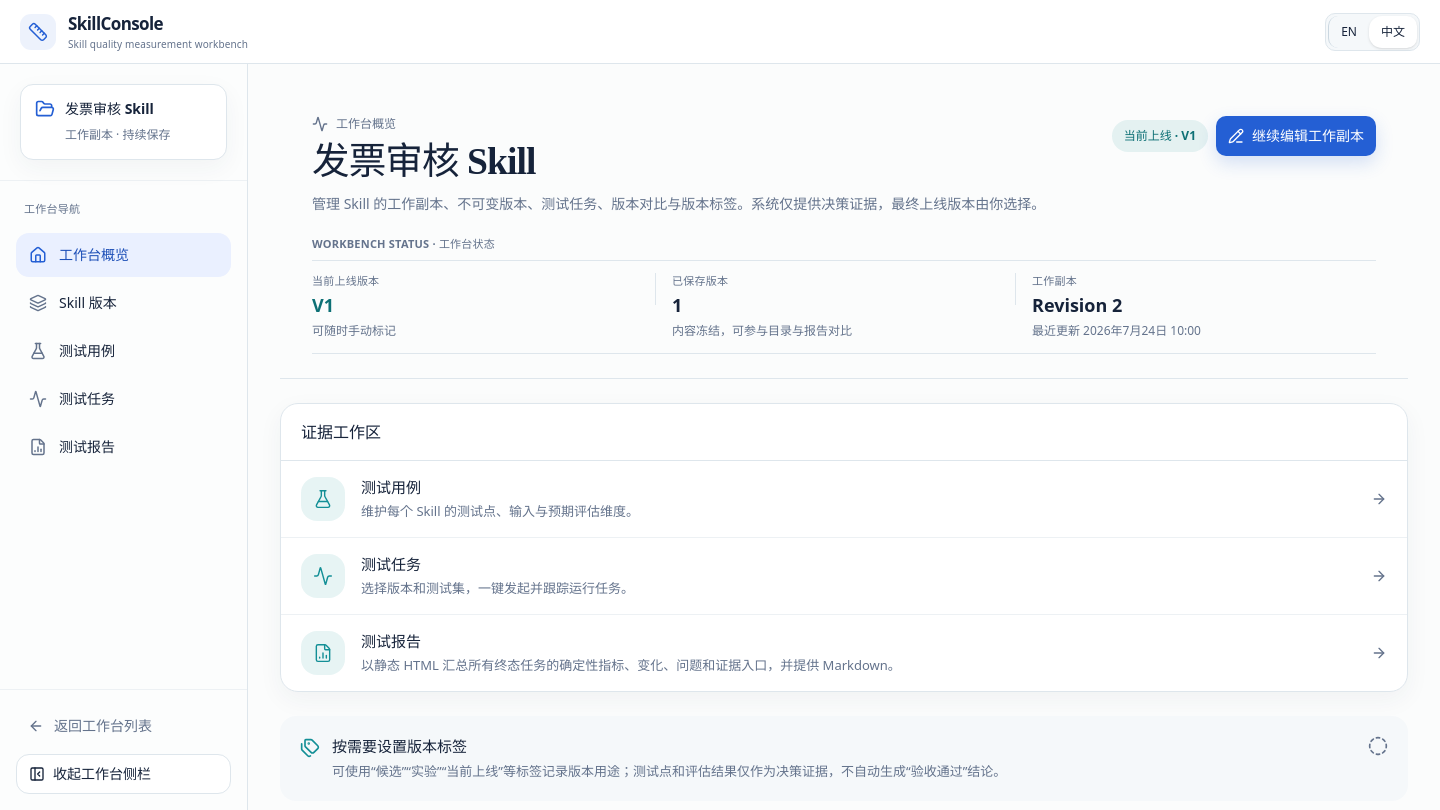
Test: workspace routes › persists the collapsed sidebar and keeps accessible navigation
This screenshot has width=1440, height=810.
Click the button "收起工作台侧栏" at (124, 774), box [16,754,231,794]
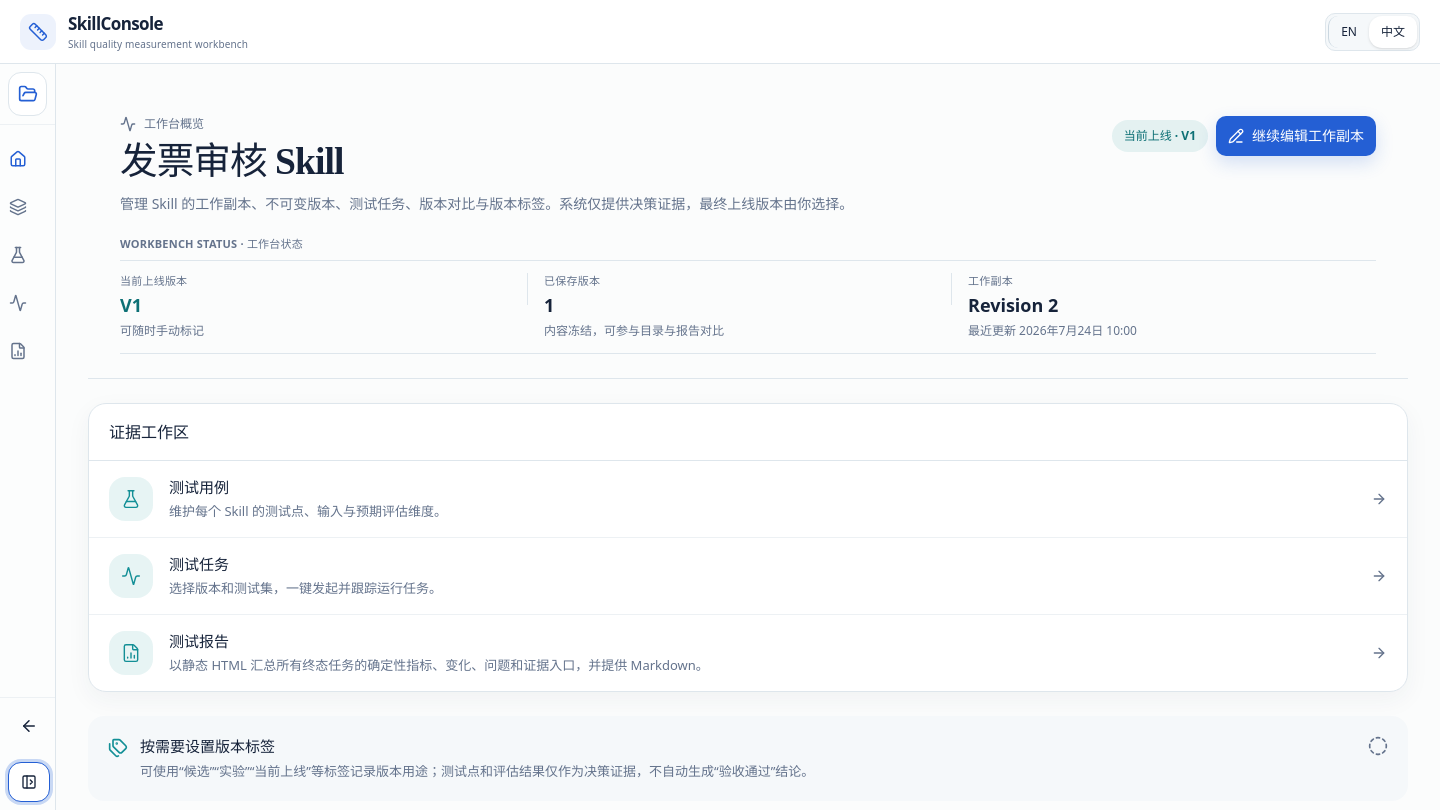
Result: the button named "展开工作台侧栏" is collapsed at [8,762,50,802]
Result: the link named "Skill 版本" is shown at [9,198,27,216]
